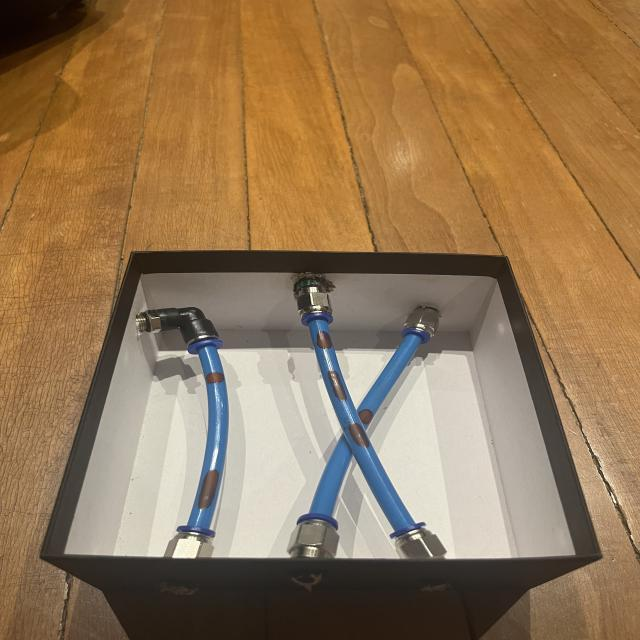hose_damage: (194, 467, 225, 512), (324, 368, 348, 403), (348, 418, 369, 451), (313, 329, 336, 352), (355, 408, 374, 426), (202, 371, 226, 385)
